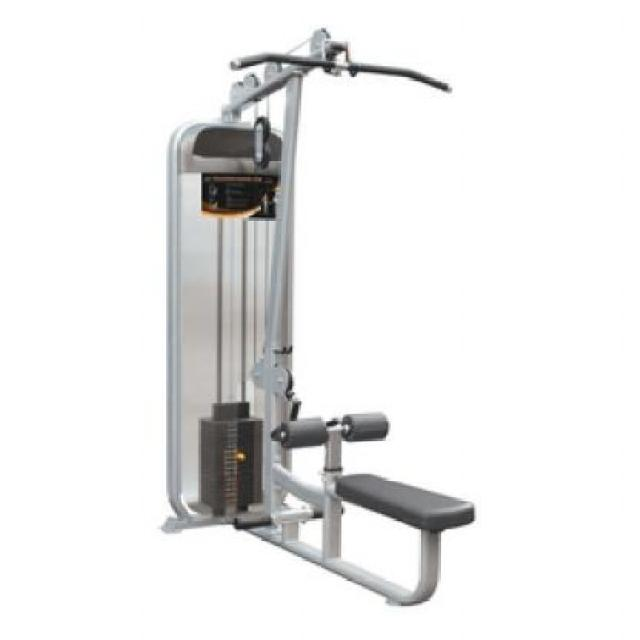Lat Pull Down: (145, 17, 523, 621)
